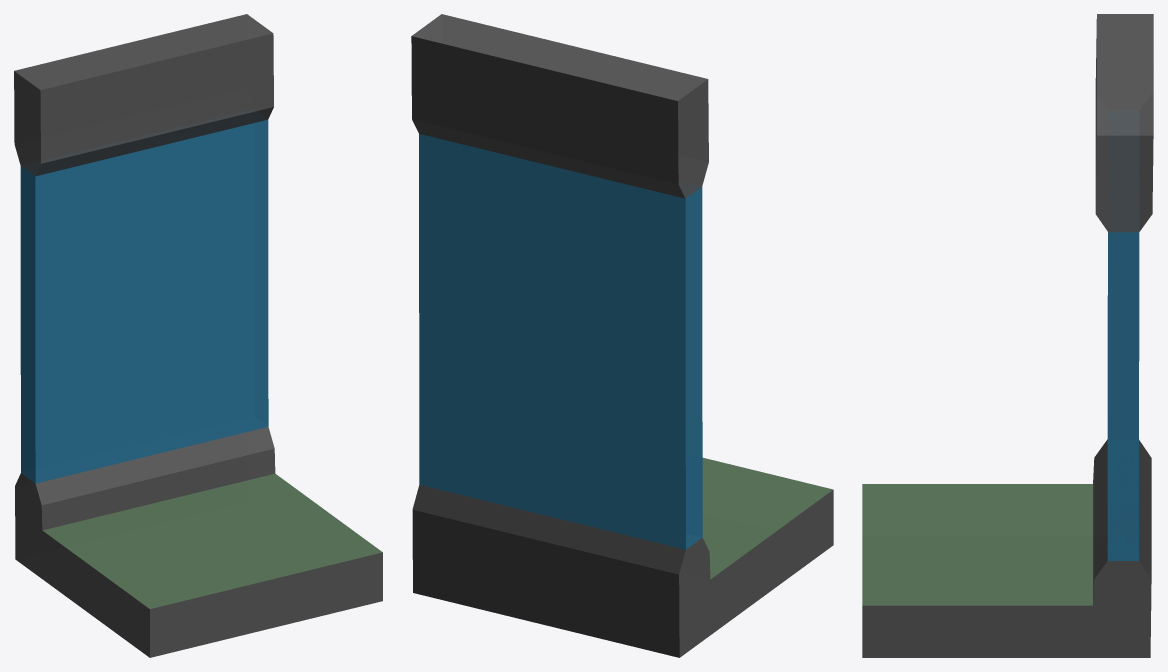
File: RoomWall.obj
The picture shows the model from 3 angles, left to right: view 1: azimuth 30°, elevation 25°; view 2: azimuth 150°, elevation 25°; view 3: azimuth 270°, elevation 25°; orthographic projection. The views are drawn at different scales.
Visible parts, largest first — view 1: WallWindows_Cube.005, Wall_Cube.001, WallFlooring_Cube.010; view 2: WallWindowsExterior_Cube.011, WallExterior_Cube.009, Wall_Cube.001, WallFlooring_Cube.010, WallWindows_Cube.005; view 3: Wall_Cube.001, WallFlooring_Cube.010, WallWindows_Cube.005, WallExterior_Cube.009.
Boxes of the visible parts, x1,y1,x2,y2 form: WallWindows_Cube.005: (20, 119, 268, 483); Wall_Cube.001: (14, 14, 382, 657); WallFlooring_Cube.010: (42, 473, 382, 608); WallWindowsExterior_Cube.011: (419, 134, 685, 549); WallExterior_Cube.009: (411, 36, 685, 657); Wall_Cube.001: (412, 14, 833, 657); WallFlooring_Cube.010: (702, 457, 832, 579); WallWindows_Cube.005: (685, 187, 702, 549); Wall_Cube.001: (862, 14, 1153, 657); WallFlooring_Cube.010: (862, 484, 1092, 605); WallWindows_Cube.005: (1107, 232, 1139, 560); WallExterior_Cube.009: (1139, 440, 1151, 579).
Size of the model in its own units: 2 by 4 by 2.02.
